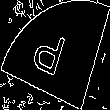P_S: (34, 25, 76, 85)
